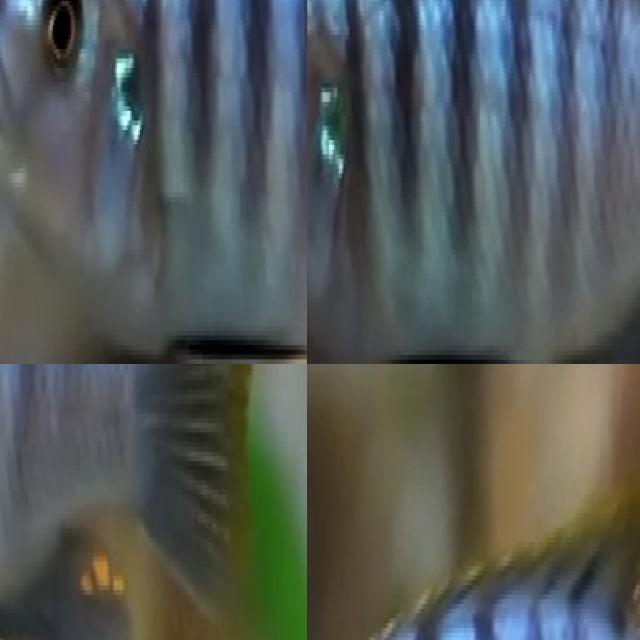fish: (307, 0, 640, 364), (0, 0, 307, 364), (0, 364, 266, 640)
